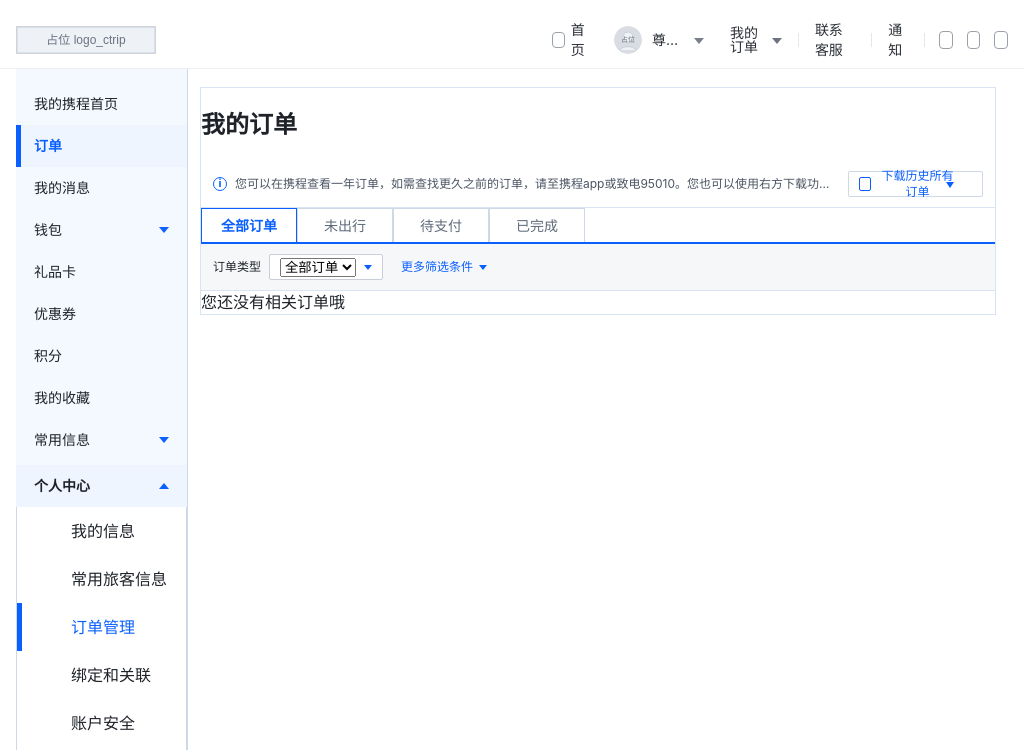
Test: 订单管理 - 场景用例 › 导航: 订单页左侧导航栏可跳转个人信息/常用旅客信息
The width and height of the screenshot is (1024, 750).
Click the link "常用旅客信息" at point(119, 579), box left=71, top=569, right=167, bottom=589
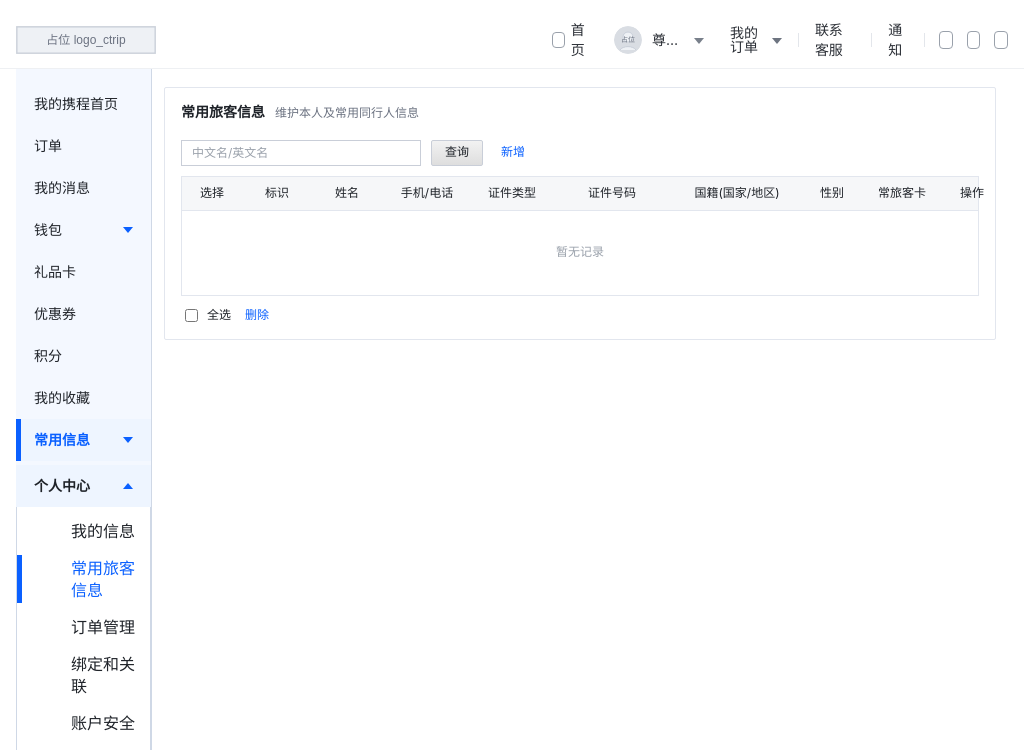
expect the text "维护本人及常用同行人信息" is shown: met, box left=275, top=105, right=419, bottom=122
Click the link "我的信息" at point(103, 531), box left=71, top=521, right=135, bottom=541
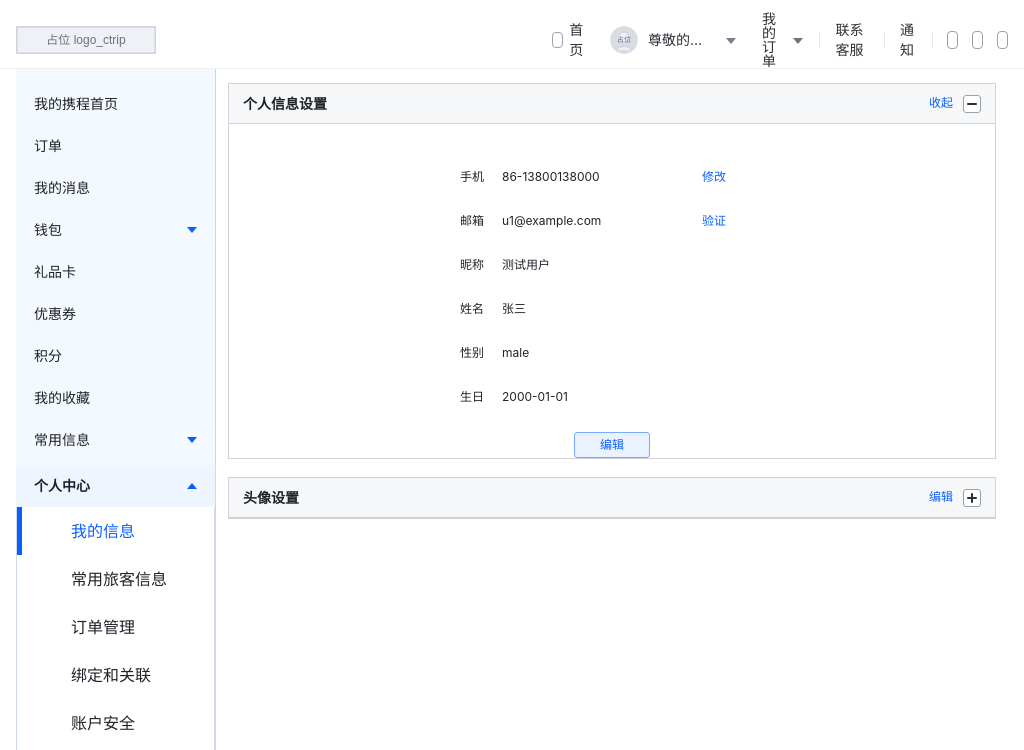
expect the text "个人信息设置" is shown: met, box left=243, top=94, right=327, bottom=113
